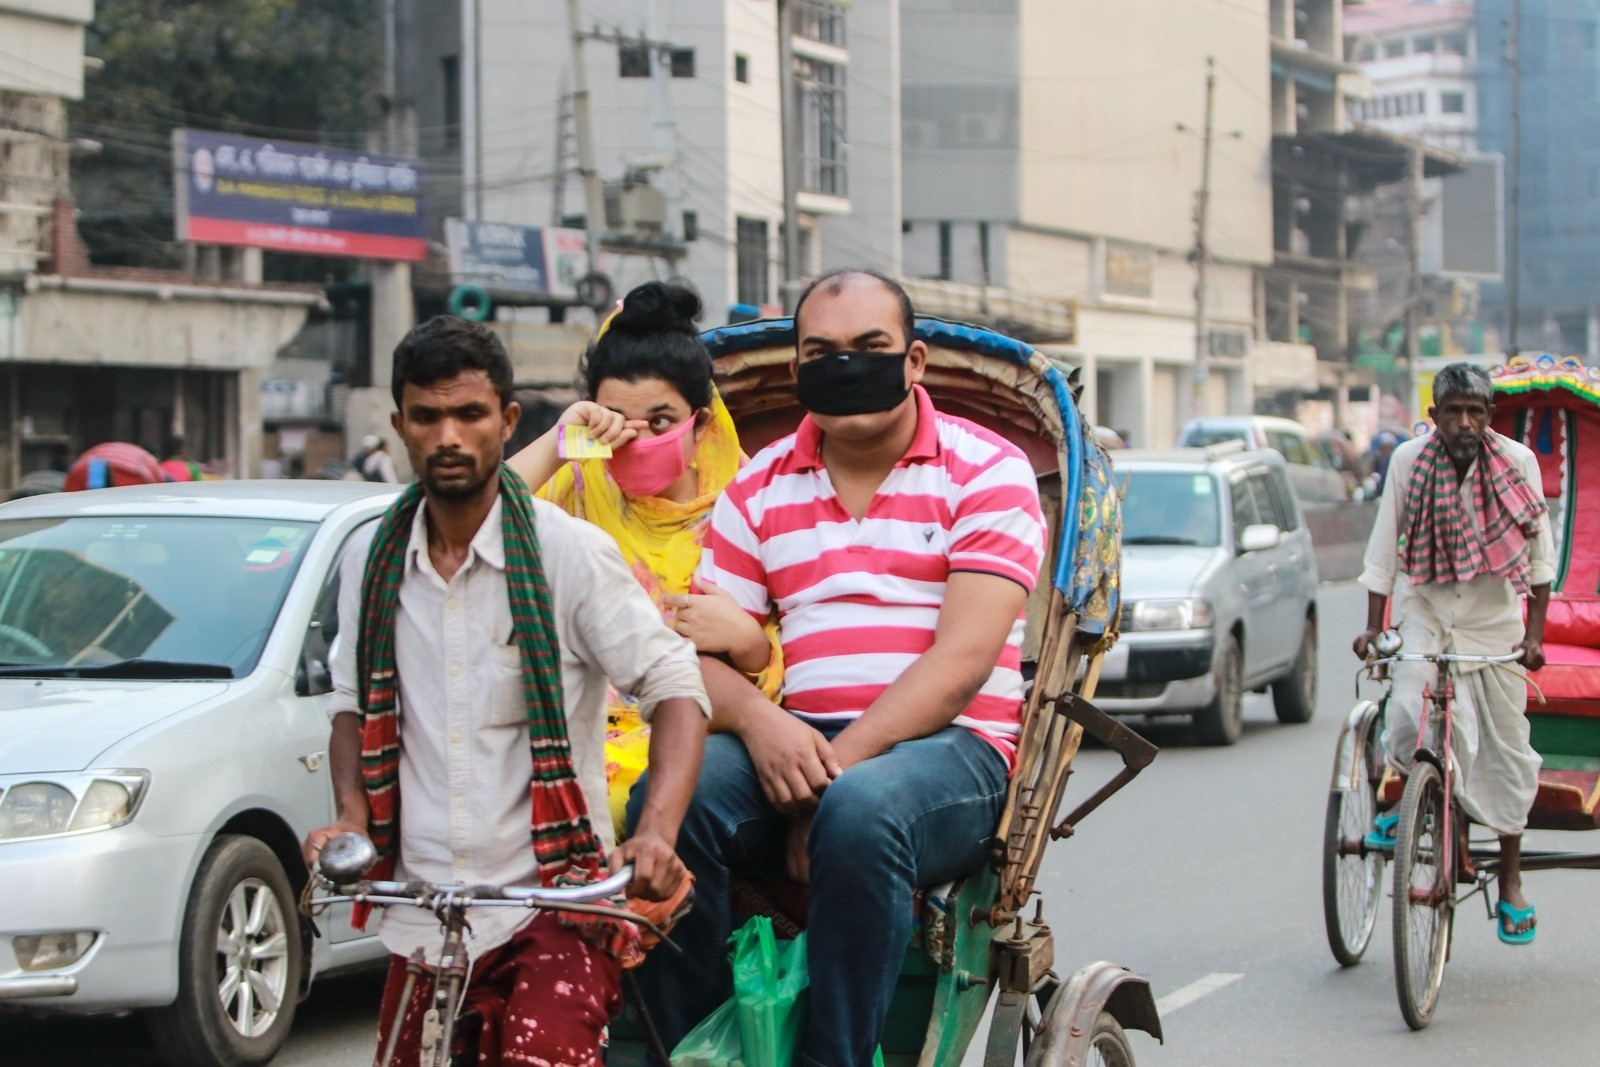face_no_mask: (387, 318, 519, 499)
face_with_mask: (583, 313, 713, 504), (789, 268, 928, 444)
